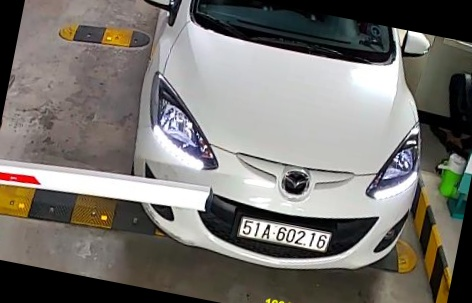plate: (236, 207, 335, 259)
